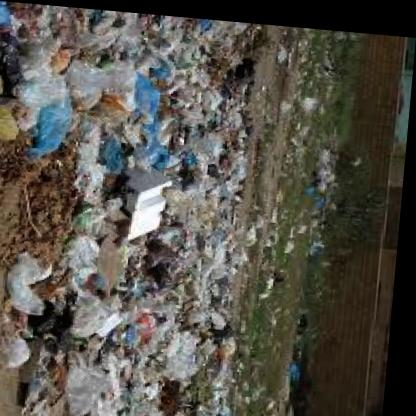Plastic: (107, 18, 174, 166), (38, 56, 106, 152), (128, 308, 196, 404), (66, 286, 128, 350), (72, 353, 132, 416), (8, 249, 48, 325), (74, 168, 113, 239), (70, 231, 118, 284), (10, 327, 56, 378), (0, 98, 30, 156)
